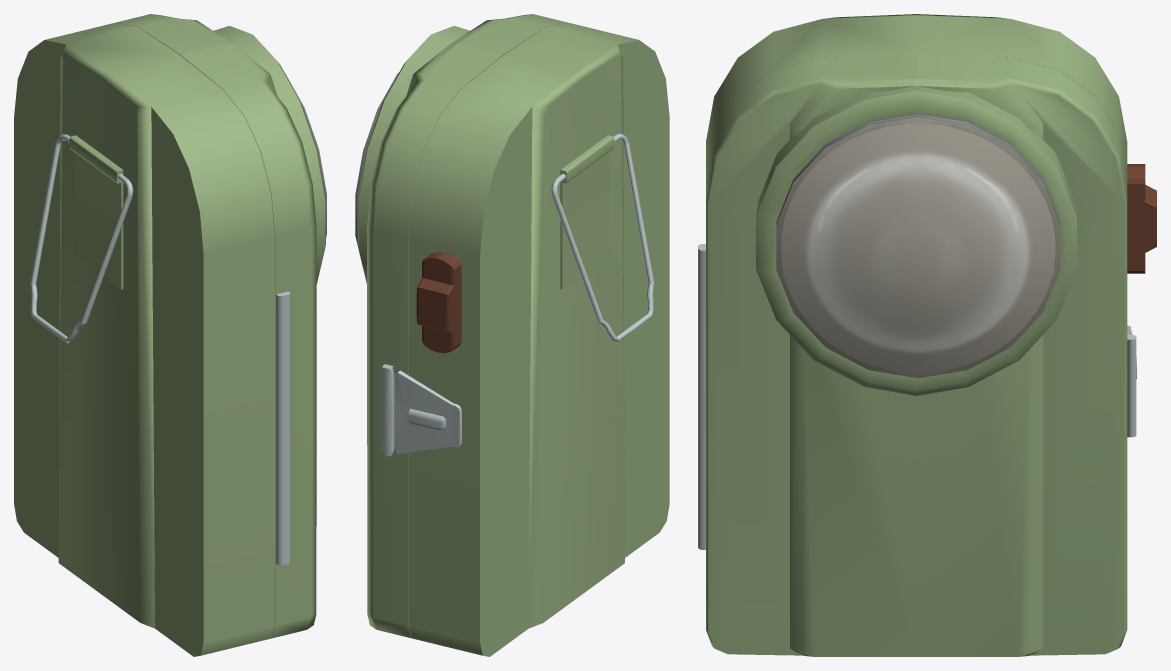
The model's file is Flashlight.fbx.
The picture shows the model from 3 angles, left to right: view 1: azimuth 30°, elevation 25°; view 2: azimuth 150°, elevation 25°; view 3: azimuth 270°, elevation 25°; orthographic projection. The views are drawn at different scales.
Parts seen in each view (by area): view 1: FlashlightBack, FlashlightFront; view 2: FlashlightBack, FlashlightFront, FlashlightLatch, FlashlightSwitch, FlashlightBulb; view 3: FlashlightFront, FlashlightBulb, FlashlightBack, FlashlightSwitch.
Part boxes in pixels (x1,y1,x2,y2): FlashlightBack: (14, 22, 274, 656); FlashlightFront: (116, 14, 325, 638); FlashlightBack: (408, 22, 669, 656); FlashlightFront: (357, 14, 567, 638); FlashlightLatch: (394, 370, 461, 453); FlashlightSwitch: (416, 252, 461, 353); FlashlightBulb: (355, 72, 398, 264); FlashlightFront: (698, 54, 1136, 656); FlashlightBulb: (776, 113, 1059, 378); FlashlightBack: (706, 14, 1127, 179); FlashlightSwitch: (1127, 164, 1156, 273).
Size of the model in its own units: 3.42 by 7.18 by 5.12.
